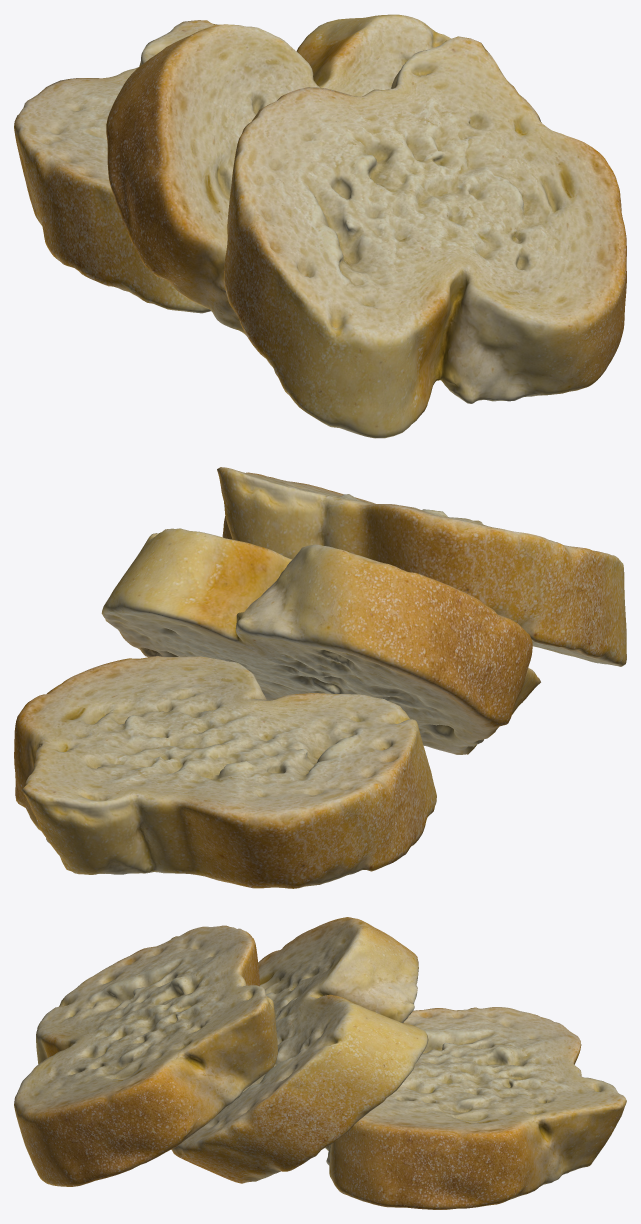
The model's file is Bread.glb.
The picture shows the model from 3 angles, top to bottom: view 1: azimuth 30°, elevation 25°; view 2: azimuth 150°, elevation 25°; view 3: azimuth 270°, elevation 25°; orthographic projection. The views are drawn at different scales.
Visible parts, largest first — view 1: FoodPlatter006_BreadBaguetteFrenchSlice003, FoodPlatter006_BreadBaguetteFrenchSlice002, FoodPlatter006_BreadBaguetteFrenchSlice001; view 2: FoodPlatter006_BreadBaguetteFrenchSlice001, FoodPlatter006_BreadBaguetteFrenchSlice002, FoodPlatter006_BreadBaguetteFrenchSlice003; view 3: FoodPlatter006_BreadBaguetteFrenchSlice003, FoodPlatter006_BreadBaguetteFrenchSlice001, FoodPlatter006_BreadBaguetteFrenchSlice002.
Part boxes in pixels (bbox=[...]): FoodPlatter006_BreadBaguetteFrenchSlice003: bbox=[224, 36, 626, 438]; FoodPlatter006_BreadBaguetteFrenchSlice002: bbox=[106, 14, 451, 335]; FoodPlatter006_BreadBaguetteFrenchSlice001: bbox=[14, 20, 218, 313]; FoodPlatter006_BreadBaguetteFrenchSlice001: bbox=[14, 656, 436, 888]; FoodPlatter006_BreadBaguetteFrenchSlice002: bbox=[101, 528, 540, 754]; FoodPlatter006_BreadBaguetteFrenchSlice003: bbox=[217, 467, 626, 666]; FoodPlatter006_BreadBaguetteFrenchSlice003: bbox=[14, 925, 277, 1186]; FoodPlatter006_BreadBaguetteFrenchSlice001: bbox=[325, 1007, 626, 1209]; FoodPlatter006_BreadBaguetteFrenchSlice002: bbox=[171, 917, 428, 1183].
Bounding box in the file's own units: 0.1544 × 0.1061 × 0.2875.
Materials: 1 (1 with a texture image).
